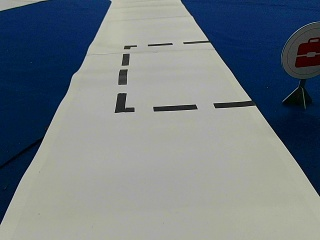company: (280, 22, 319, 78)
